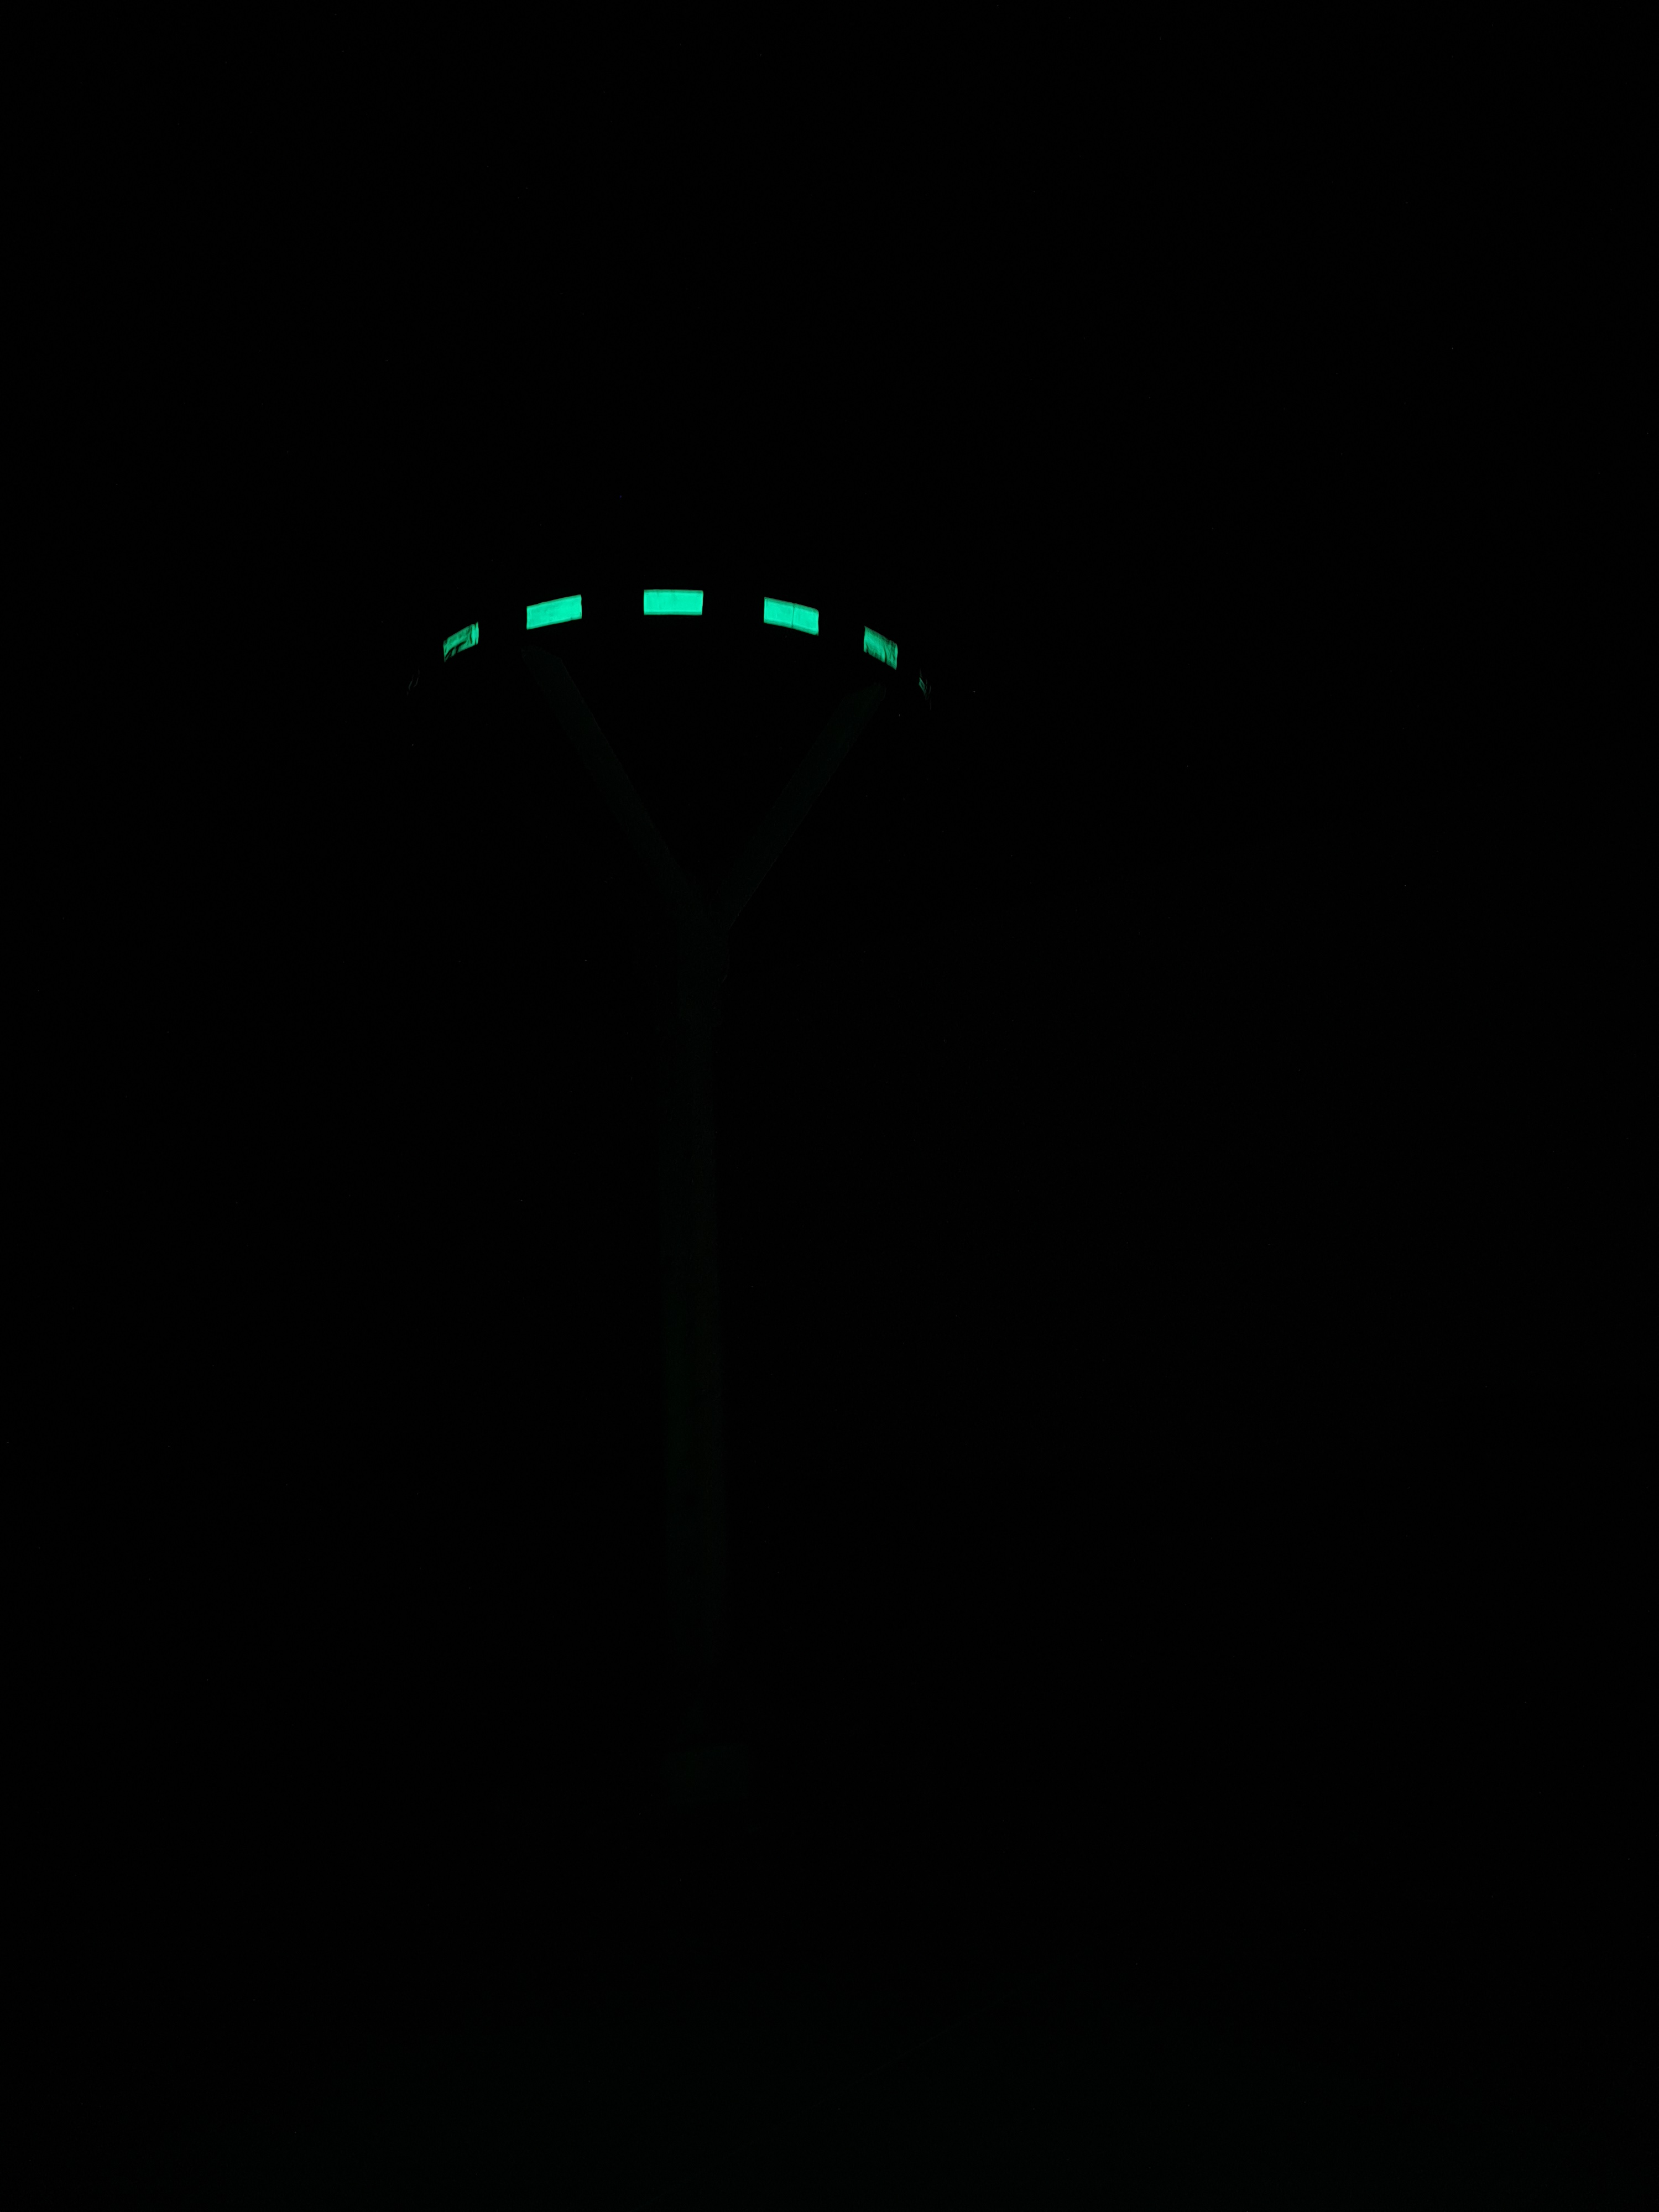hoop: (441, 587, 899, 674)
